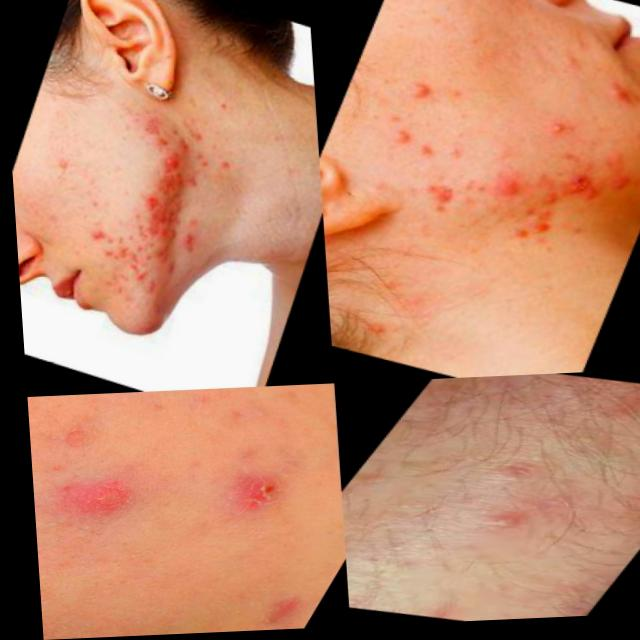8: (95, 241, 148, 292), (149, 139, 193, 182), (77, 222, 113, 256)
9: (41, 474, 162, 537), (381, 73, 466, 128), (370, 126, 424, 171), (532, 117, 586, 157), (459, 514, 527, 543)
blackheads: (536, 158, 617, 223), (125, 168, 196, 242), (395, 183, 468, 237)
whiteheads: (343, 300, 406, 353)
